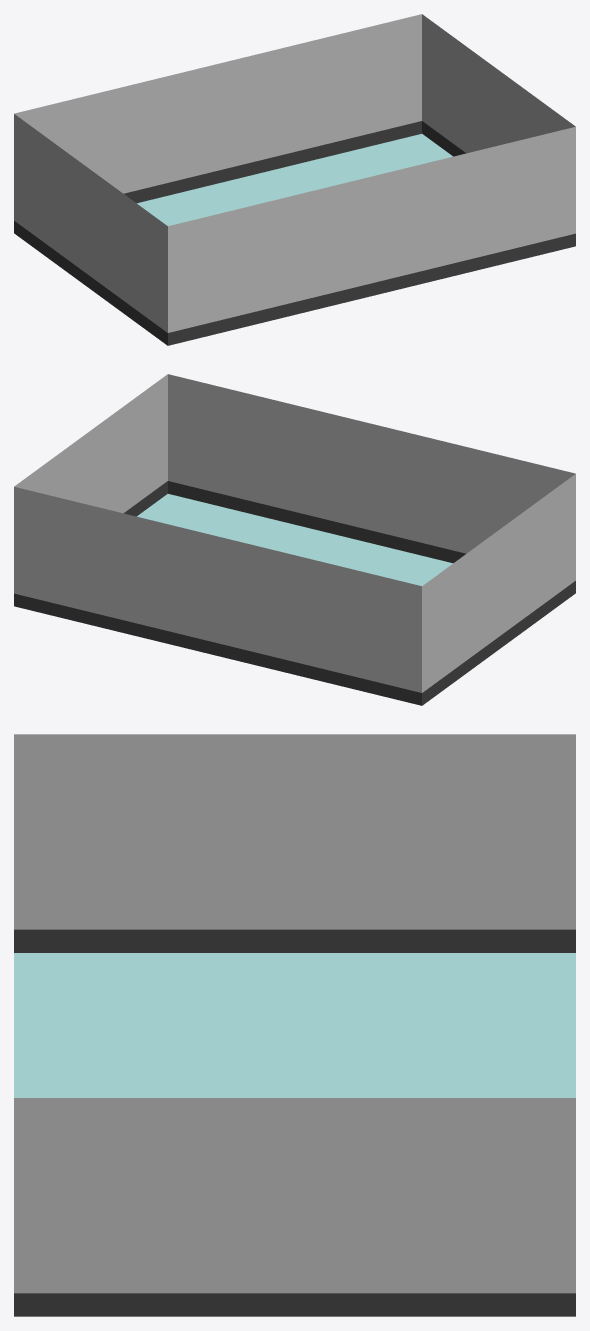
Rendered from room4x6.fbx.
3 renders of one model, top to bottom at view 1: azimuth 30°, elevation 25°; view 2: azimuth 150°, elevation 25°; view 3: azimuth 270°, elevation 25°, orthographic. The views are drawn at different scales.
Visible parts, largest first — view 1: room6x4; view 2: room6x4; view 3: room6x4.
Part boxes in pixels (x1=…): room6x4: x1=14, y1=14, x2=575, y2=345; room6x4: x1=14, y1=374, x2=575, y2=705; room6x4: x1=14, y1=734, x2=575, y2=1316.
Bounding box in the file's own units: 1200 × 336 × 784.
